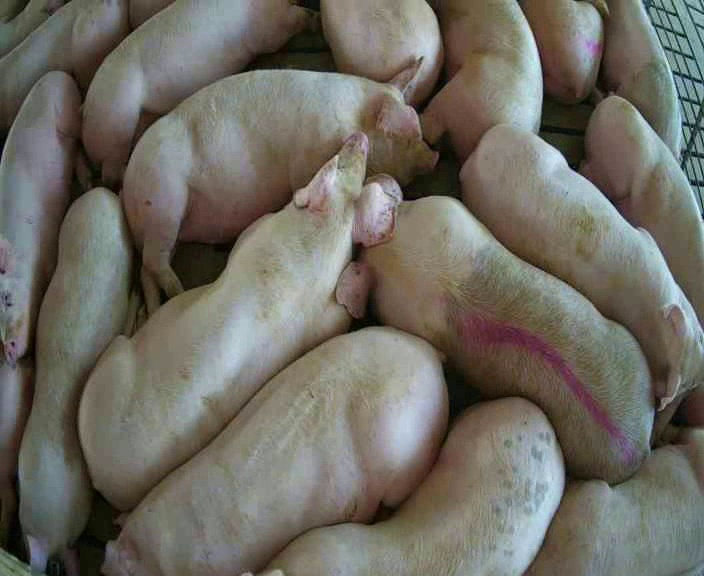pig: (336, 176, 653, 482), (105, 327, 446, 571), (122, 70, 437, 308), (461, 125, 703, 408), (263, 398, 563, 574), (18, 188, 131, 574), (82, 2, 310, 186), (0, 71, 91, 362), (527, 425, 703, 574), (421, 2, 542, 160), (0, 2, 128, 135), (321, 2, 443, 105), (520, 1, 603, 103)
